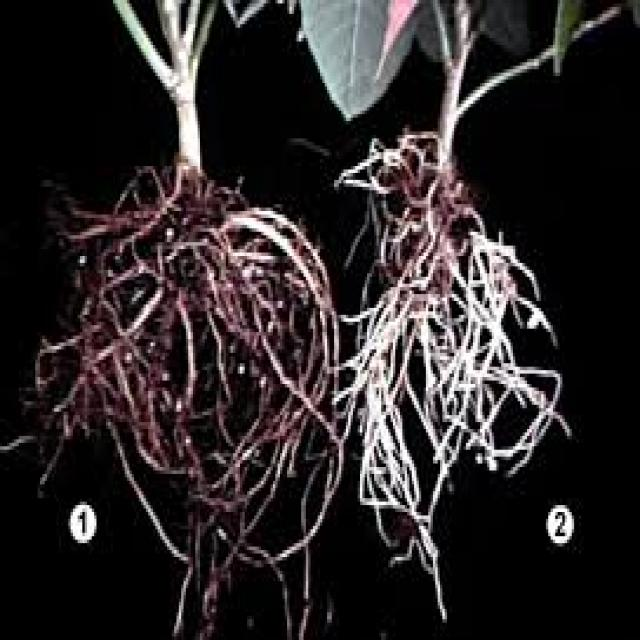root_rot: (93, 10, 544, 573)
